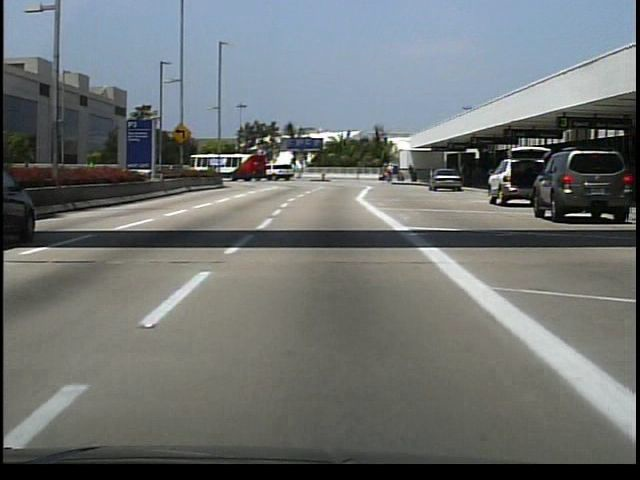person: (457, 158, 472, 187), (385, 160, 395, 184)
